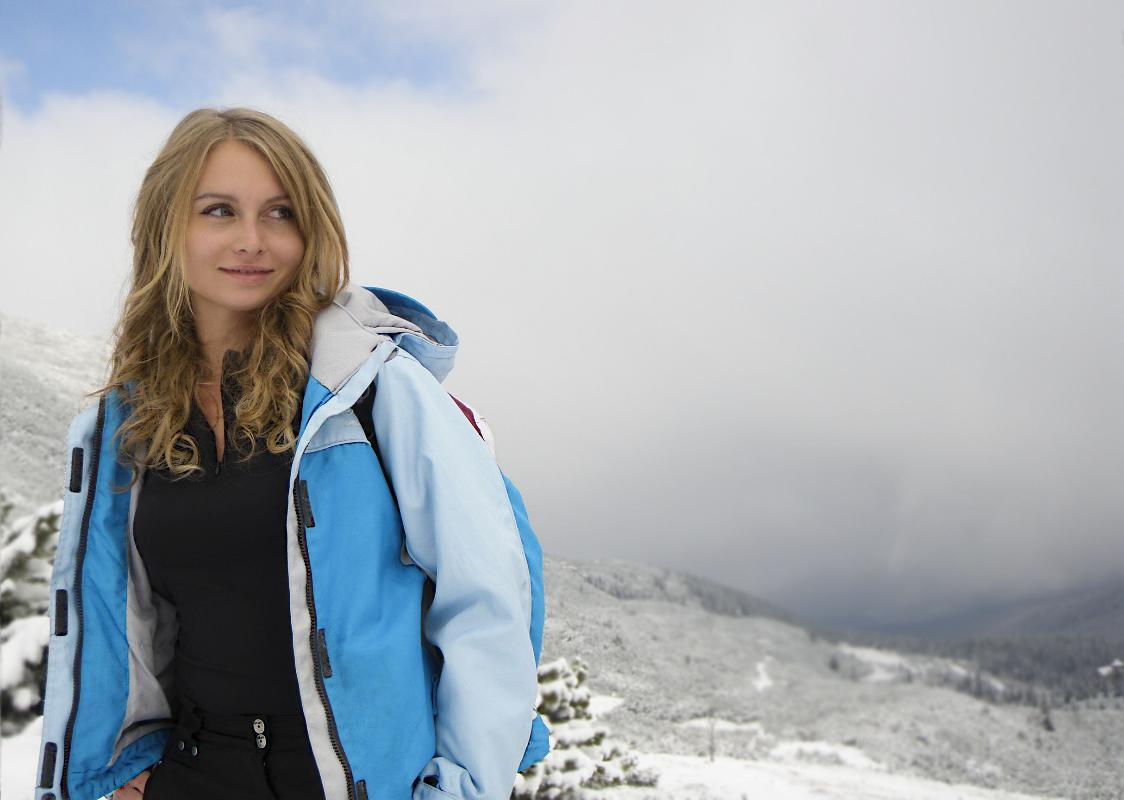Person: (43, 101, 543, 800)
